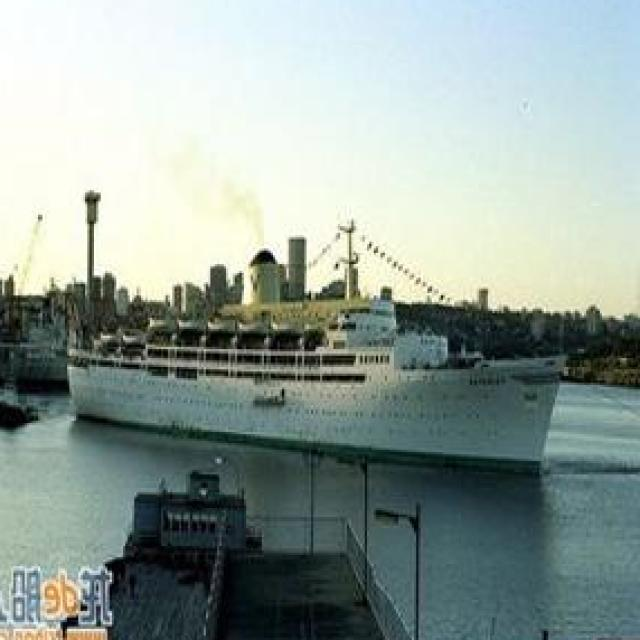cargoship: (42, 211, 592, 475)
